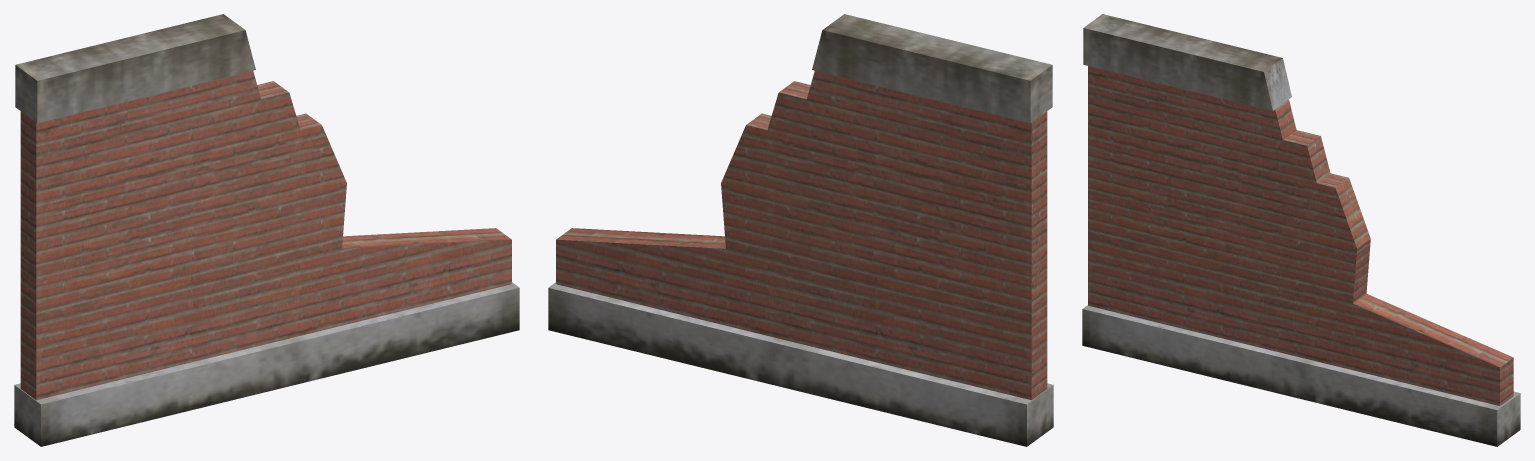
Rendered from Wall4.glb.
3 renders of one model, left to right at view 1: azimuth 30°, elevation 25°; view 2: azimuth 150°, elevation 25°; view 3: azimuth 330°, elevation 25°, orthographic. The views are drawn at different scales.
Parts seen in each view (by area): view 1: Wall_4; view 2: Wall_4; view 3: Wall_4.
Part boxes in pixels (bbox=[...]): Wall_4: bbox=[14, 14, 519, 446]; Wall_4: bbox=[548, 14, 1053, 446]; Wall_4: bbox=[1082, 14, 1520, 446].
Size of the model in its own units: 328 by 238 by 31.82.
Materials: 2 (2 with a texture image).
